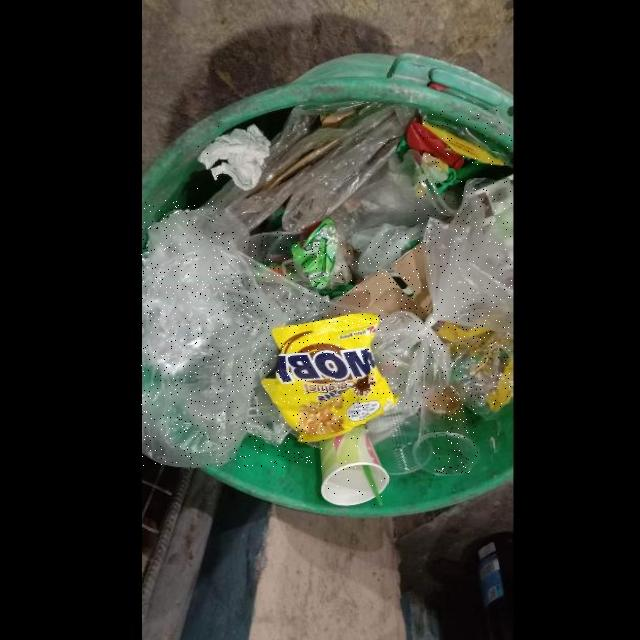paper: (327, 242, 433, 321), (320, 424, 388, 506), (197, 124, 270, 191)
plastic: (141, 200, 335, 467), (371, 180, 512, 410), (222, 102, 415, 232), (413, 390, 478, 476), (366, 407, 433, 474)
wrapper: (260, 313, 401, 442), (421, 109, 513, 168), (291, 219, 337, 290)
